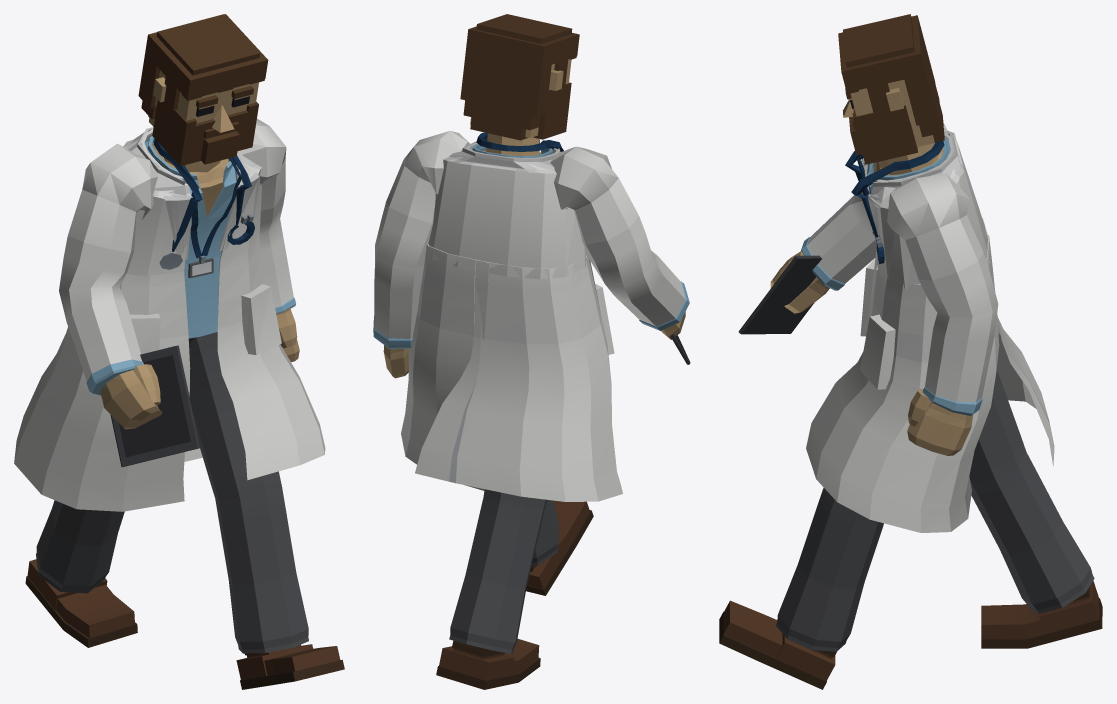
File: doctor-d49de0__walk0.glb
The picture shows the model from 3 angles, left to right: view 1: azimuth 30°, elevation 25°; view 2: azimuth 150°, elevation 25°; view 3: azimuth 270°, elevation 25°; orthographic projection. The views are drawn at different scales.
Parts seen in each view (by area): view 1: doctor-d49de0__walk0; view 2: doctor-d49de0__walk0; view 3: doctor-d49de0__walk0.
Part boxes in pixels (x1,y1,x2,y2): doctor-d49de0__walk0: (14, 14, 344, 689); doctor-d49de0__walk0: (373, 14, 690, 689); doctor-d49de0__walk0: (719, 14, 1102, 689).
Size of the model in its own units: 0.7448 by 1.7 by 0.9332.
